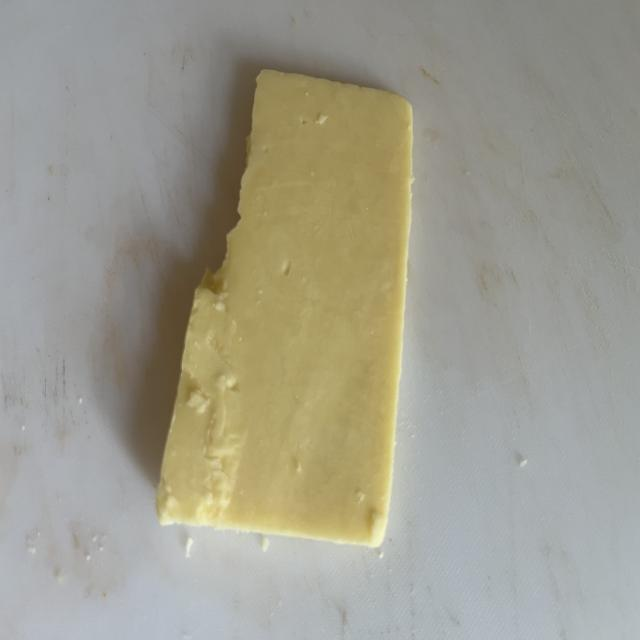cheese: (157, 70, 413, 546)
